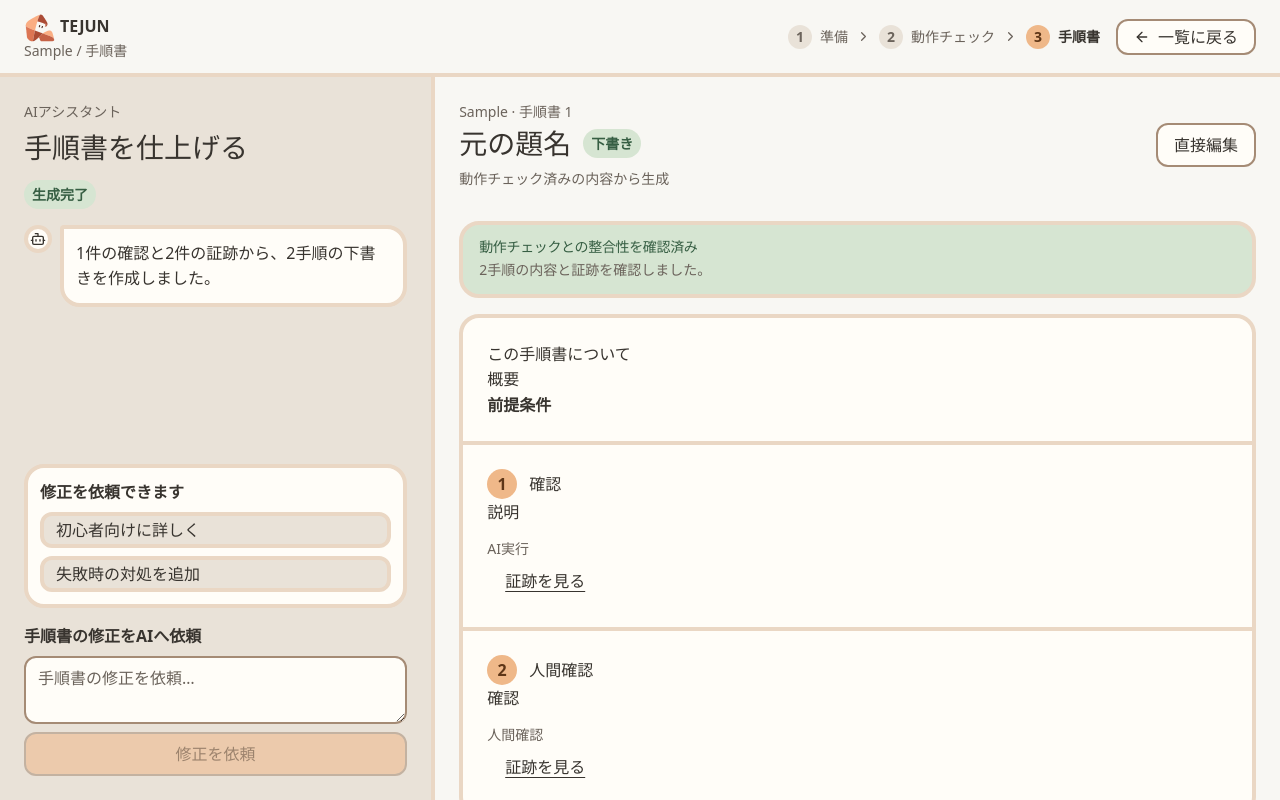
Test case: ProcedurePage › 証跡の続きを二重取得せず、失敗後も既存本文を表示する
The image size is (1280, 800).
What coordinates should you click on to do the following:
click the button with aria-label "確認の証跡を見る"
I would click on:
 (545, 581)
Its box is [487,559,603,603].
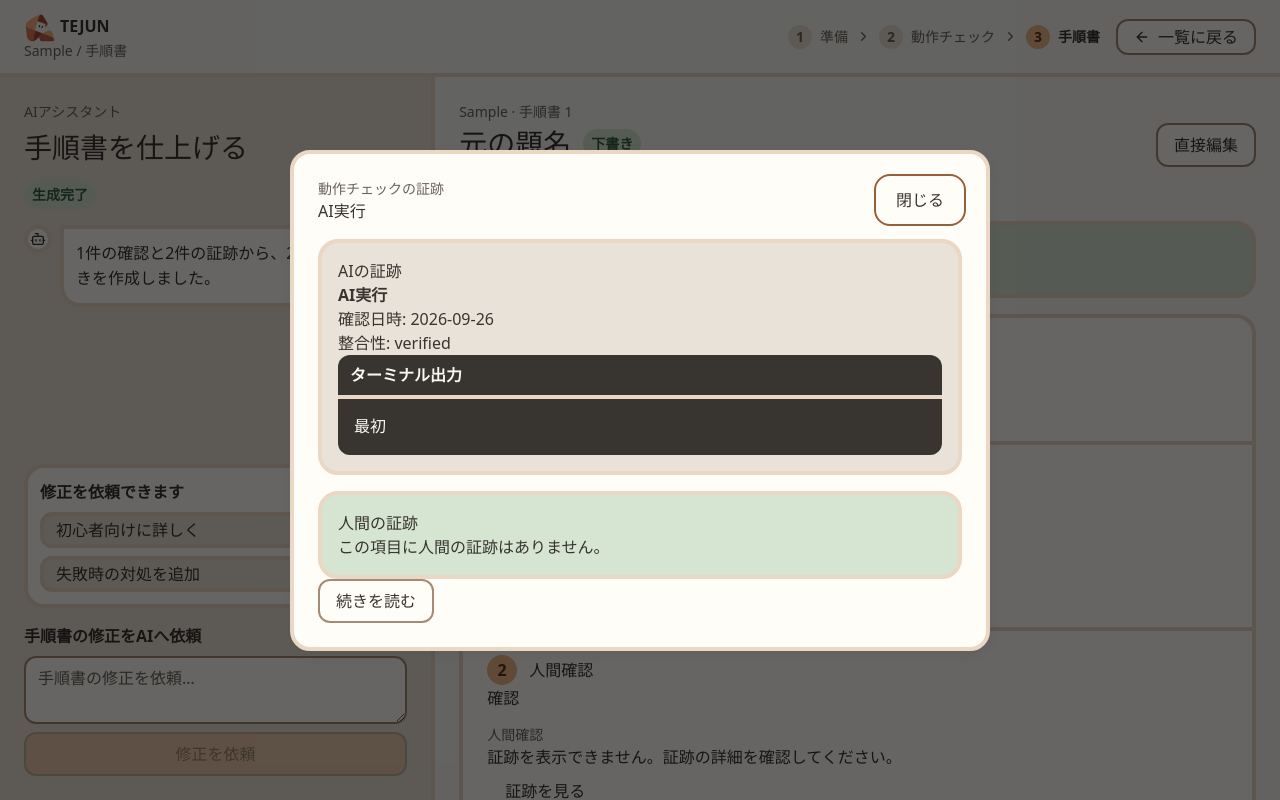
Expected: the text "最初" is shown, [354,416,386,436]
What coordinates should you click on to do the following:
click the button "続きを読む"
I would click on:
 (376, 600)
Its box is [318,578,434,622].
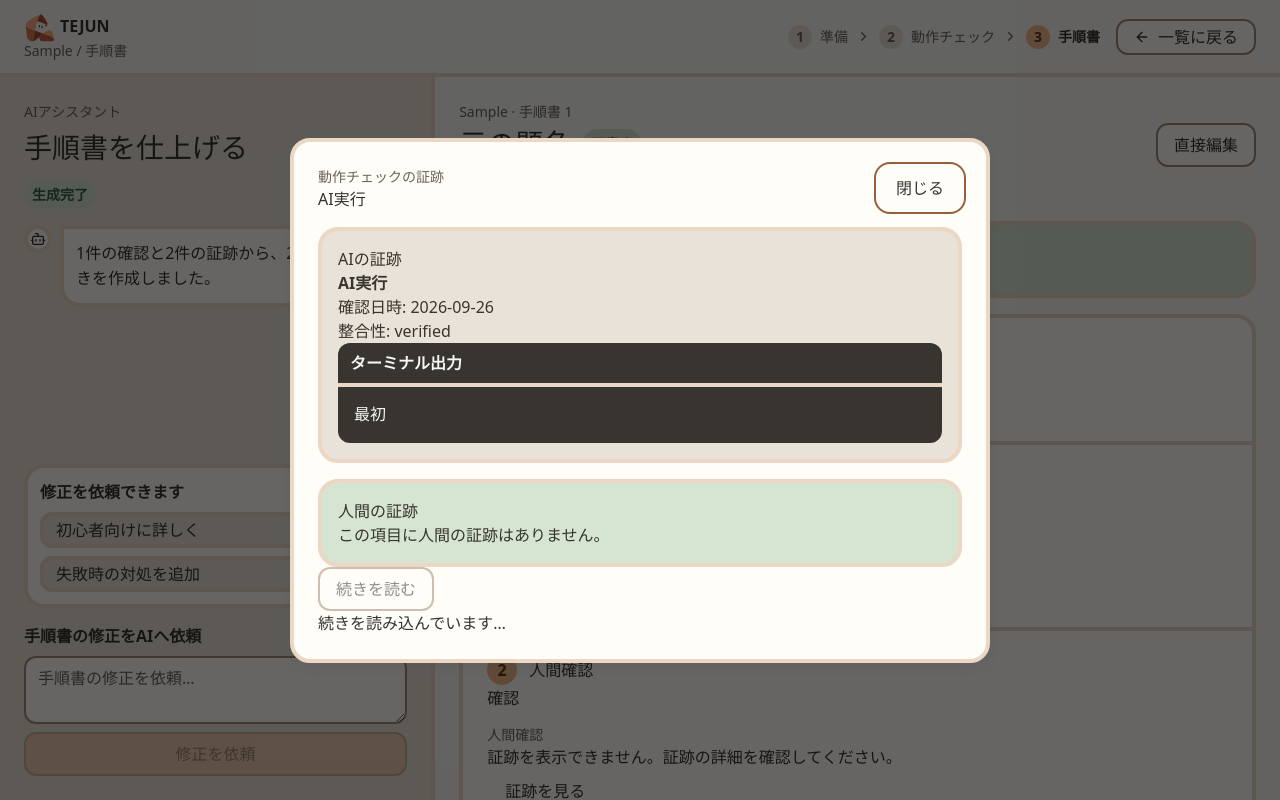
What coordinates should you click on to do the following:
click the button "続きを読む"
I would click on:
 (376, 588)
Its box is [318,566,434,610].
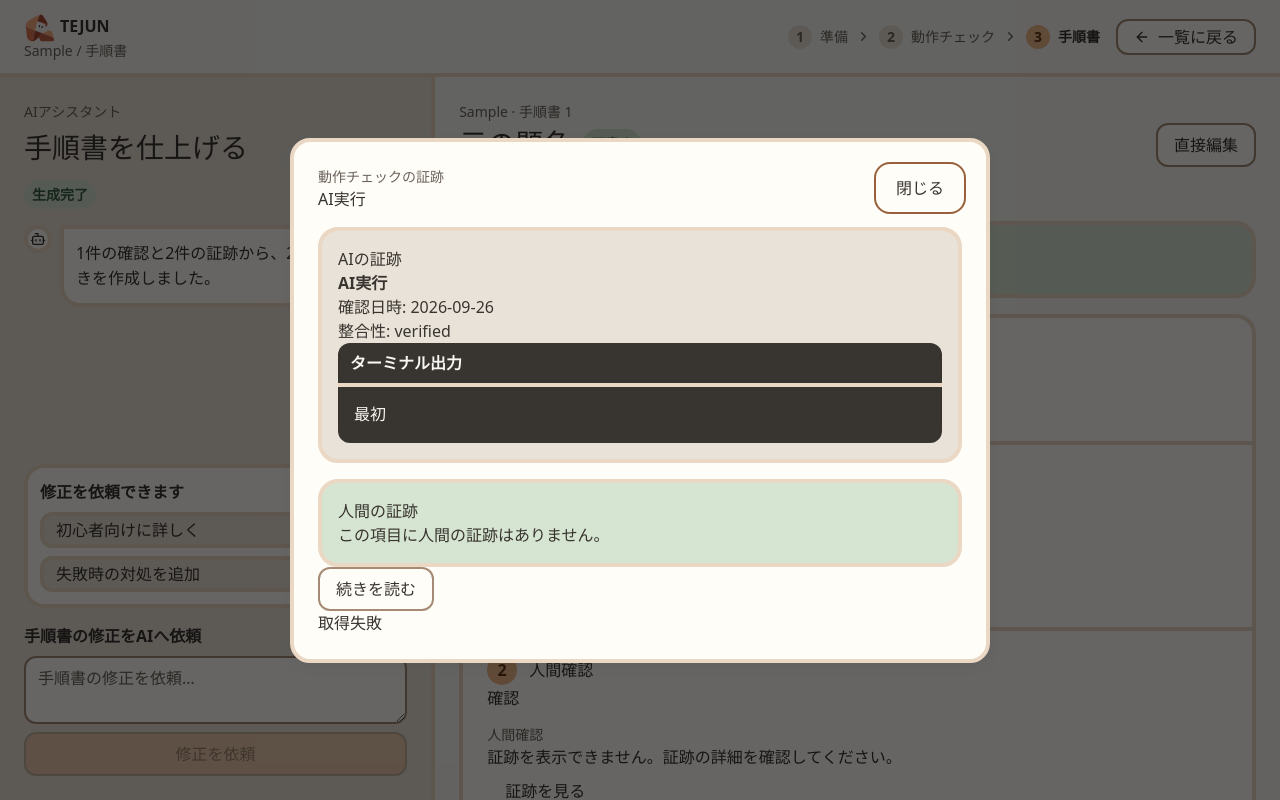
Expected: the text "最初" is shown, [354,404,386,424]
Expected: the text "取得失敗" is shown, [318,612,382,634]
